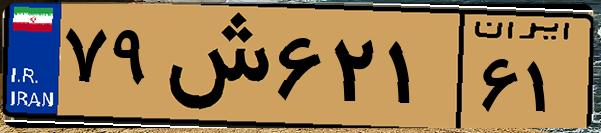1: (385, 28, 445, 110), (525, 38, 570, 115)
2: (330, 28, 385, 110)
6: (270, 28, 330, 110), (475, 38, 525, 113)
7: (57, 26, 110, 100)
9: (110, 28, 158, 98)
ش: (158, 12, 270, 120)
